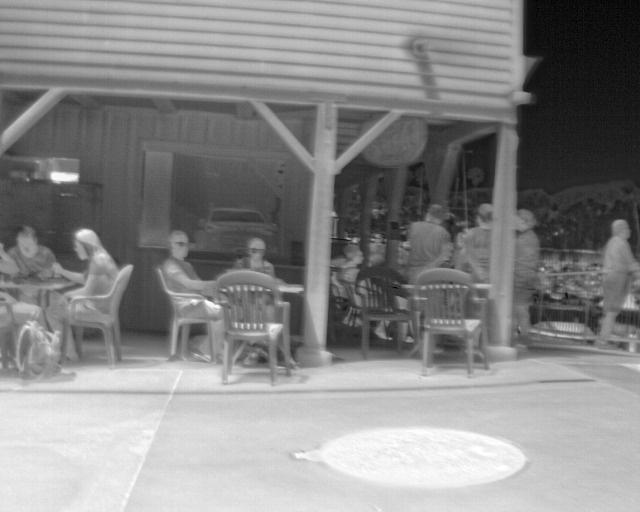empty: (591, 216, 638, 347), (50, 230, 121, 298), (158, 228, 226, 296), (397, 204, 458, 279), (4, 225, 82, 278), (513, 207, 542, 332), (458, 204, 495, 286), (228, 235, 281, 273), (338, 242, 367, 280)
